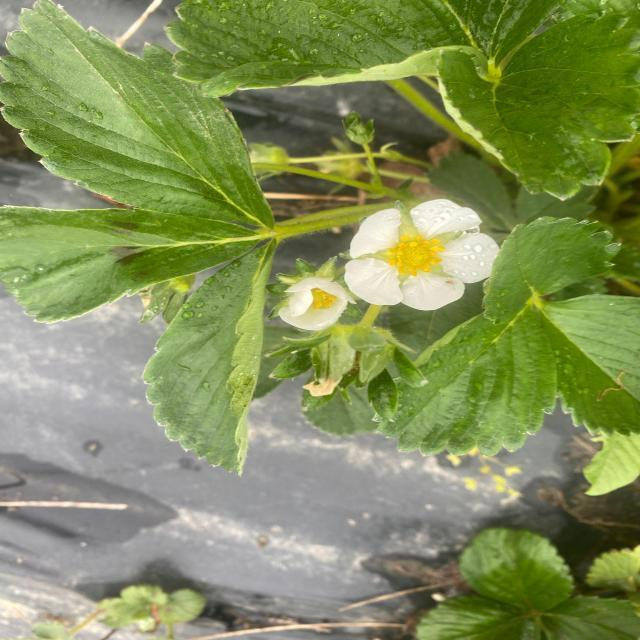flower: (342, 195, 517, 318), (266, 256, 362, 336)
